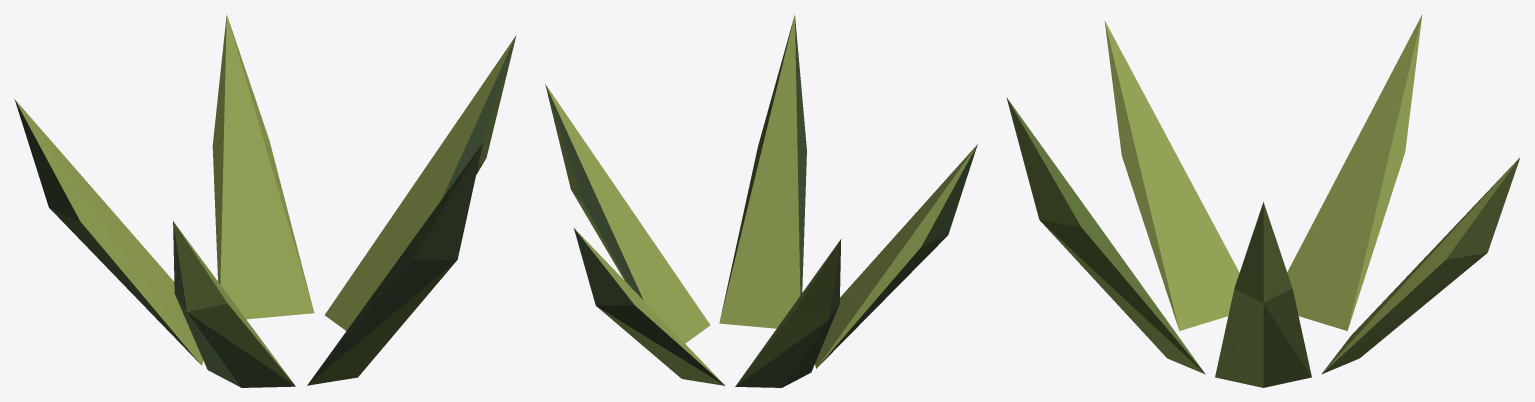
File: TW_VEG_GRASS_LOW_A_LOD0.glb
3 renders of one model, left to right at view 1: azimuth 30°, elevation 25°; view 2: azimuth 150°, elevation 25°; view 3: azimuth 270°, elevation 25°, orthographic. The views are drawn at different scales.
Visible parts, largest first — view 1: TW_VEG_GRASS_LOW_A_LOD0; view 2: TW_VEG_GRASS_LOW_A_LOD0; view 3: TW_VEG_GRASS_LOW_A_LOD0.
Boxes of the visible parts, x1,y1,x2,y2 form: TW_VEG_GRASS_LOW_A_LOD0: (14, 14, 516, 387); TW_VEG_GRASS_LOW_A_LOD0: (545, 14, 977, 387); TW_VEG_GRASS_LOW_A_LOD0: (1006, 15, 1520, 387).
Bounding box in the file's own units: 0.3528 × 0.2258 × 0.3709.
Materials: 1 (1 with a texture image).
